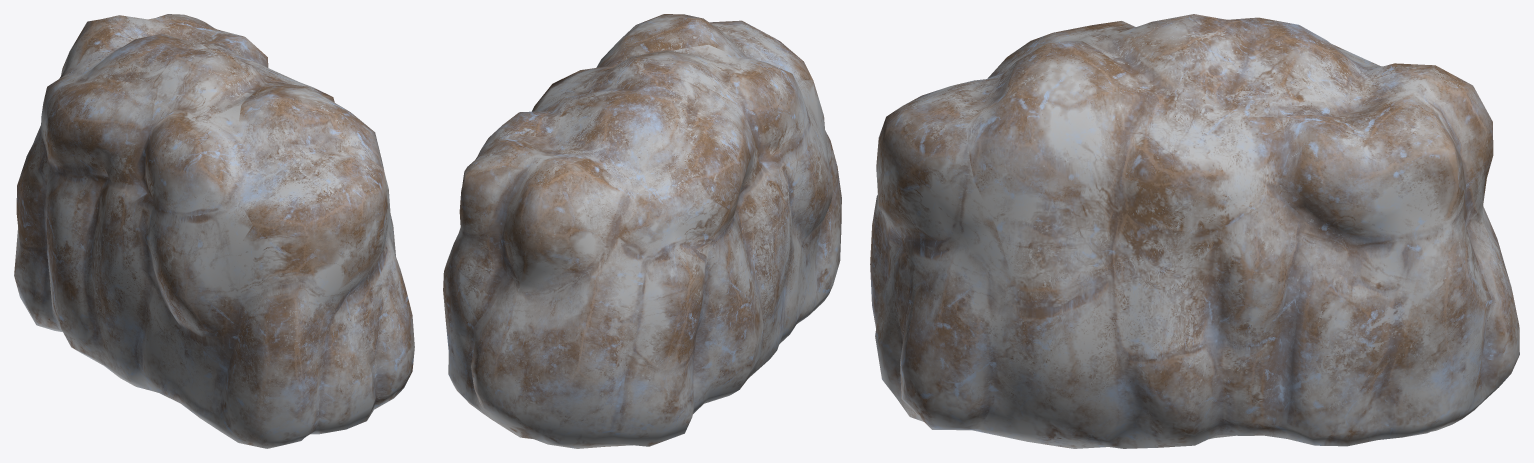
File: EP1_rock02d.fbx
The picture shows the model from 3 angles, left to right: view 1: azimuth 30°, elevation 25°; view 2: azimuth 150°, elevation 25°; view 3: azimuth 270°, elevation 25°; orthographic projection. The views are drawn at different scales.
Parts seen in each view (by area): view 1: rock02d_low; view 2: rock02d_low; view 3: rock02d_low.
Part boxes in pixels (x1,y1,x2,y2): rock02d_low: [14, 14, 414, 448]; rock02d_low: [443, 14, 841, 448]; rock02d_low: [870, 14, 1519, 448].
Size of the model in its own units: 3.23 by 3.52 by 5.46.
